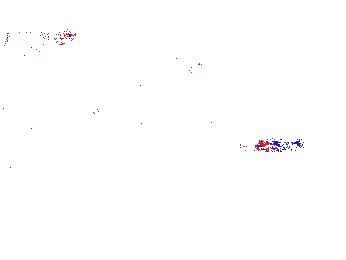red belly glassfish: (255, 137, 301, 154), (237, 136, 260, 154)
redtail glassfish: (66, 110, 143, 143), (2, 17, 78, 49), (108, 74, 151, 98), (166, 52, 200, 78)
